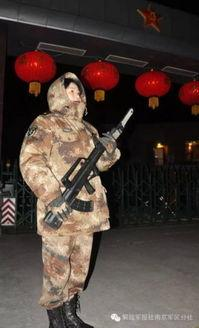up: (21, 71, 136, 328)
